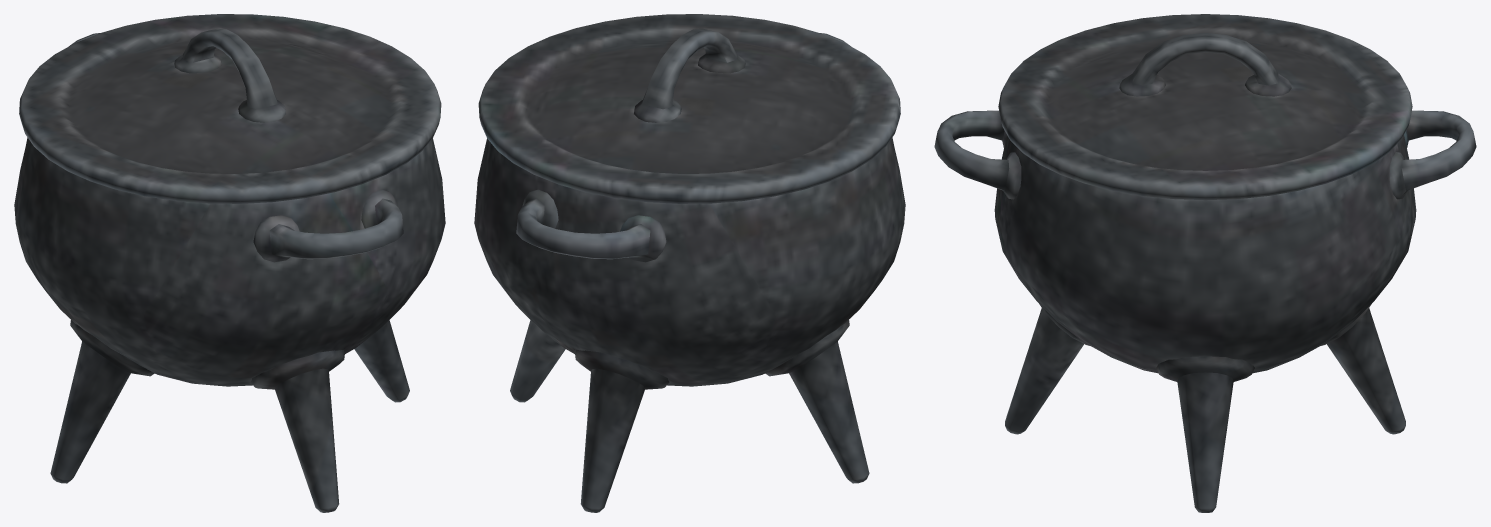
File: component_kettle.glb
3 renders of one model, left to right at view 1: azimuth 30°, elevation 25°; view 2: azimuth 150°, elevation 25°; view 3: azimuth 270°, elevation 25°, orthographic. The views are drawn at different scales.
Parts seen in each view (by area): view 1: npc_props_kettle_01; view 2: npc_props_kettle_01; view 3: npc_props_kettle_01.
Part boxes in pixels (box(x1,y1,x2,y2)): npc_props_kettle_01: box(14, 14, 445, 512); npc_props_kettle_01: box(474, 14, 905, 512); npc_props_kettle_01: box(934, 14, 1476, 512).
Bounding box in the file's own units: 0.6529 × 0.6776 × 0.8404.
1 material, 1 textured.
